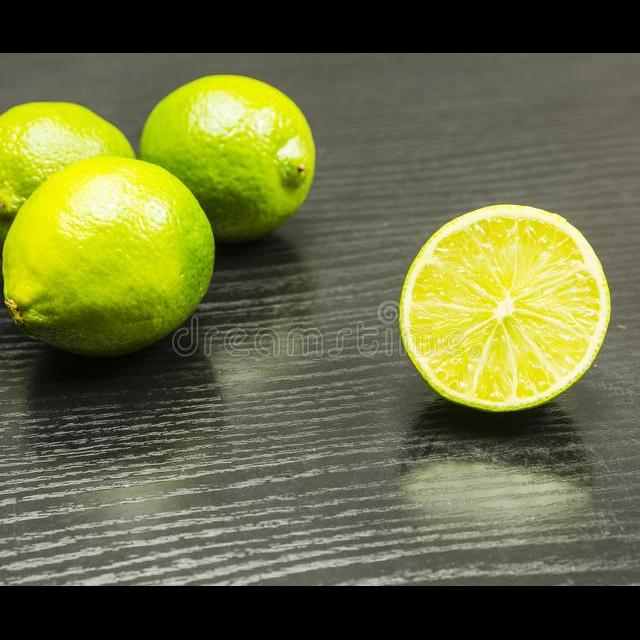lime: (0, 148, 225, 361), (132, 63, 324, 263), (0, 95, 146, 284)
